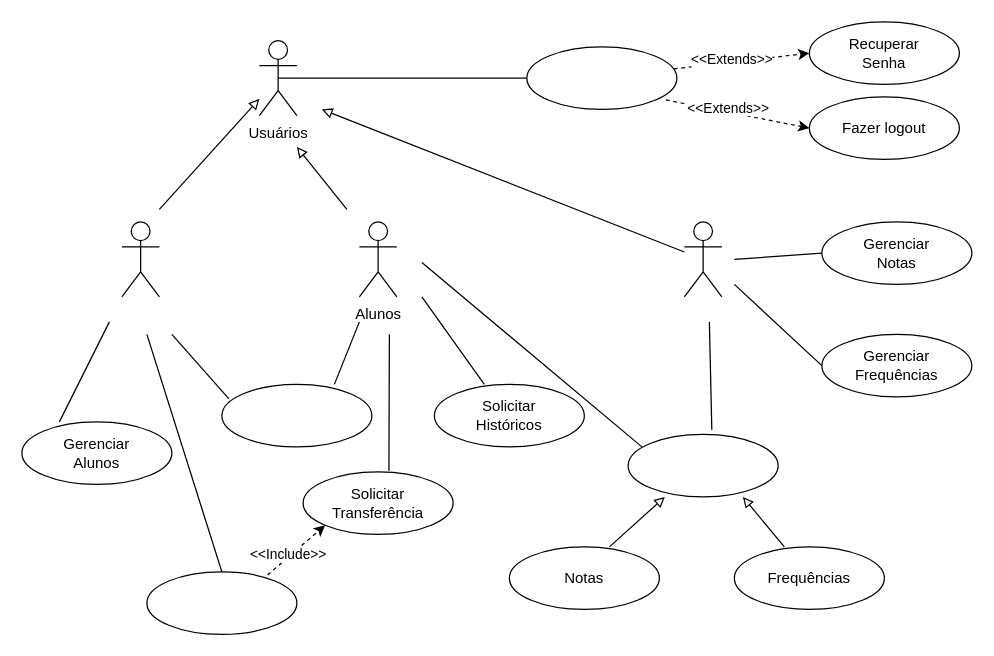
Image size: 994x656. Some labels were removed from this diagram. Here are the shapes that lost their labels. From the top down, the centre of each, then its label:
point (601, 77): Fazer Login
point (140, 259): Secretaria
point (702, 259): Professores
point (296, 415): Realizar Matrícula
point (702, 465): Consultar
point (221, 602): Aprovar Transferência
